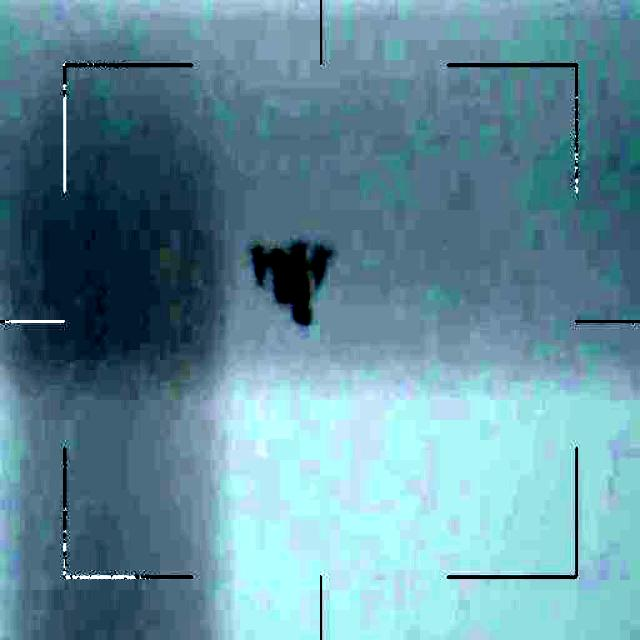bird: (251, 234, 332, 325)
